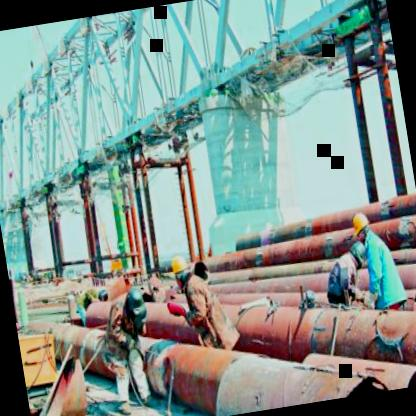helmet: (166, 251, 192, 294), (350, 208, 374, 244)
